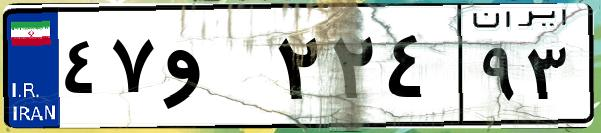2: (270, 28, 330, 110), (330, 28, 385, 110)
3: (525, 38, 570, 115)
4: (385, 28, 445, 110), (57, 26, 110, 100)
7: (110, 28, 158, 98)
9: (475, 38, 525, 113)
و: (158, 20, 270, 120)
